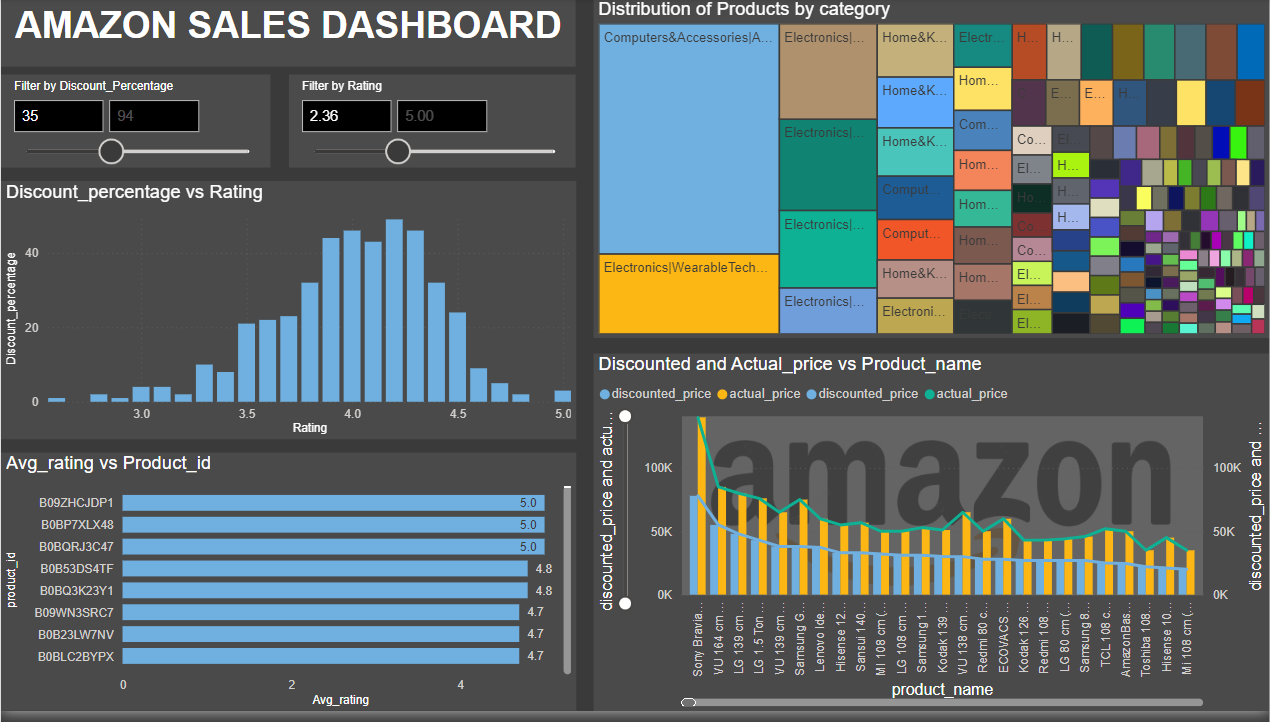

What the dashboard file says about the page in this screenshot:
{"tool":"powerbi","page":{"name":"Page 1","canvas":[1280,720],"ordinal":0},"visuals":[{"type":"barChart","title":"Avg_rating vs Product_id","fields":{"Category":["final_cleaned_amazon.product_id","final_cleaned_amazon.product_name"],"Y":["final_cleaned_amazon.rating"]},"box":[0,458.1,580.6,260.9],"z":0},{"type":"lineClusteredColumnComboChart","title":"Discounted and Actual_price vs Product_name","fields":{"Category":["final_cleaned_amazon.product_name"],"Y":["final_cleaned_amazon.discounted_price","final_cleaned_amazon.actual_price"],"Y2":["final_cleaned_amazon.discounted_price","final_cleaned_amazon.actual_price"]},"box":[598.1,359.5,682.4,361.1],"z":1000},{"type":"treemap","title":"Distribution of Products by category","fields":{"Group":["final_cleaned_amazon.category","final_cleaned_amazon.product_name"],"Values":["final_cleaned_amazon.product_id"]},"box":[598.1,0,682.4,343.6],"z":2000},{"type":"textbox","box":[0,0,598.1,70],"z":3000},{"type":"slicer","fields":{"Values":["final_cleaned_amazon.discount_percentage"]},"box":[0,77.9,272,93.8],"z":4000},{"type":"slicer","fields":{"Values":["final_cleaned_amazon.rating"]},"box":[291.1,77.9,289.5,93.8],"z":5000},{"type":"clusteredColumnChart","title":"Discount_percentage vs Rating","fields":{"Category":["final_cleaned_amazon.rating","final_cleaned_amazon.category"],"Y":["final_cleaned_amazon.discount_percentage"]},"box":[0,184.5,580.6,260.9],"z":6000}]}

Visuals, with their boxes in screenshot pixels (x1, y1, x2, y2), scaled from the page's 1280x720 canvas onto the 1270x722 screenshot:
"Avg_rating vs Product_id" barChart: rect(0, 459, 576, 721)
"Discounted and Actual_price vs Product_name" lineClusteredColumnComboChart: rect(593, 360, 1269, 721)
"Distribution of Products by category" treemap: rect(593, 0, 1269, 345)
textbox: rect(0, 0, 593, 70)
slicer - final_cleaned_amazon.discount_percentage: rect(0, 78, 270, 172)
slicer - final_cleaned_amazon.rating: rect(289, 78, 576, 172)
"Discount_percentage vs Rating" clusteredColumnChart: rect(0, 185, 576, 447)
